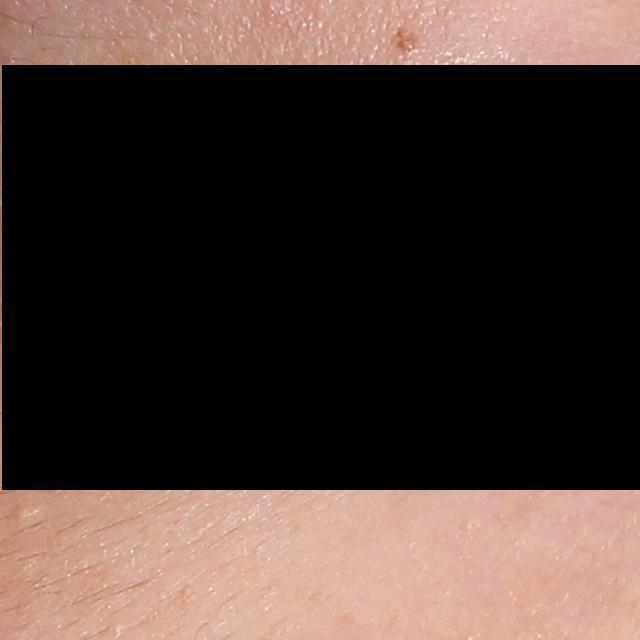nevus: (389, 27, 422, 57)
